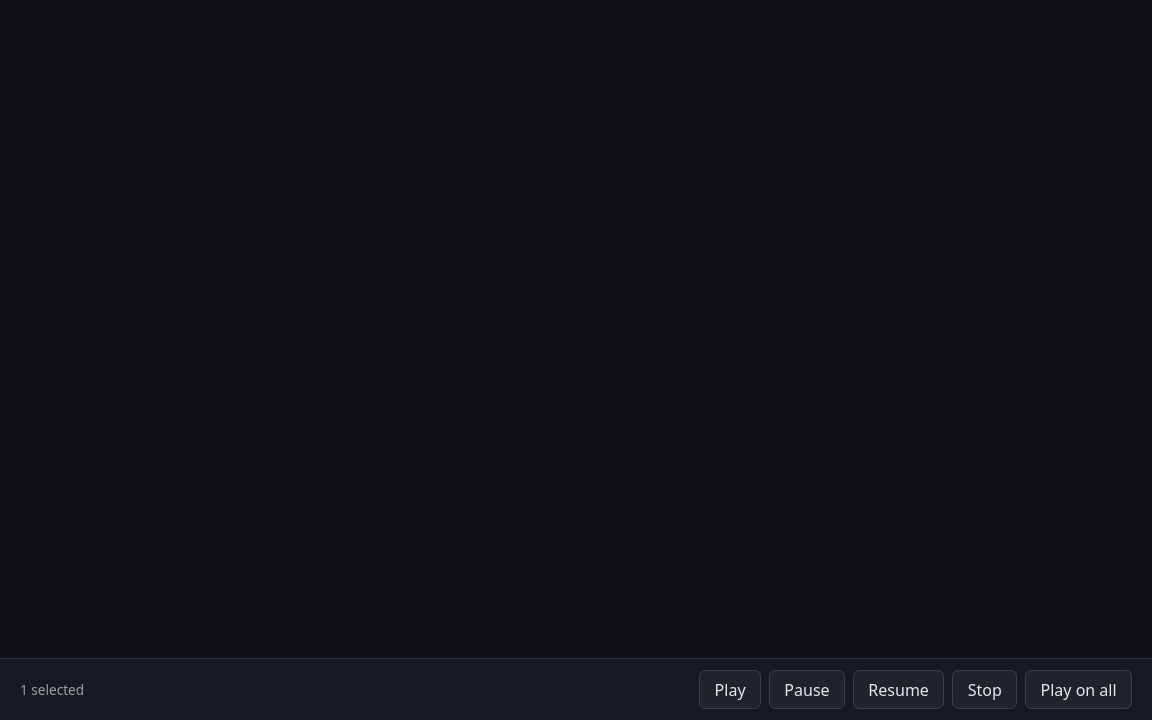
Test: reporting the result › shows the server's message when the request itself is rejected
Step 1. Click the button "Play on all" → (1079, 690), box [1025, 670, 1132, 709]
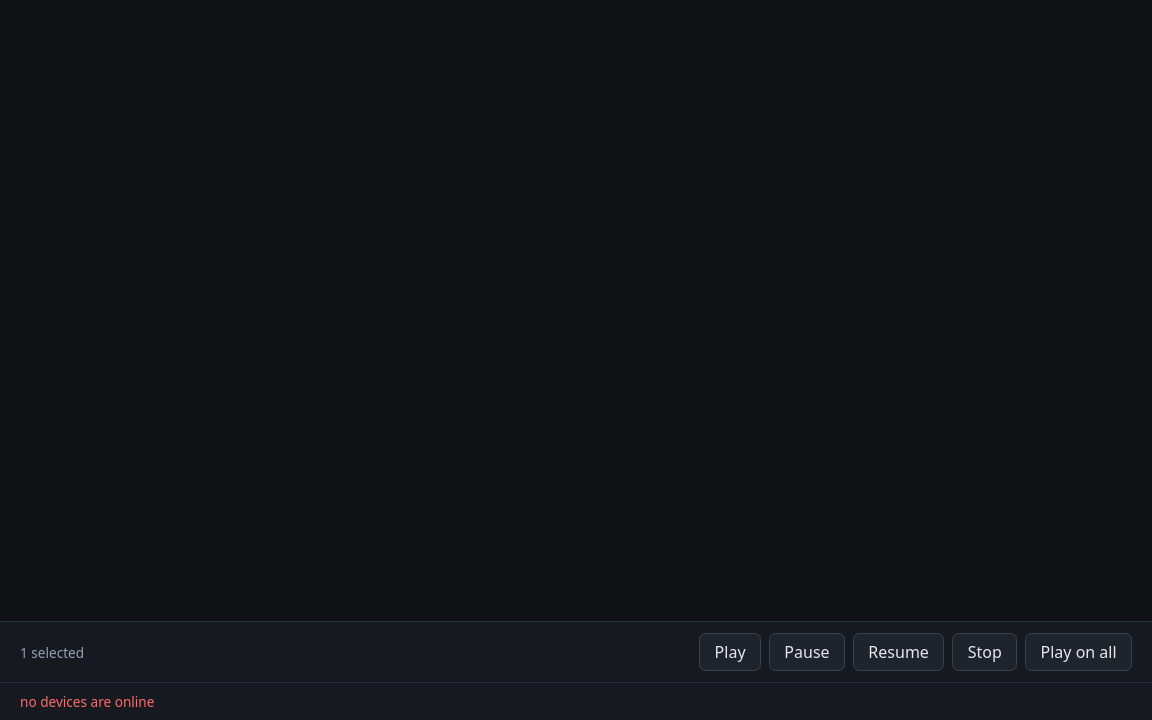
Now the message reads "no devices are online", box [20, 692, 154, 711]
